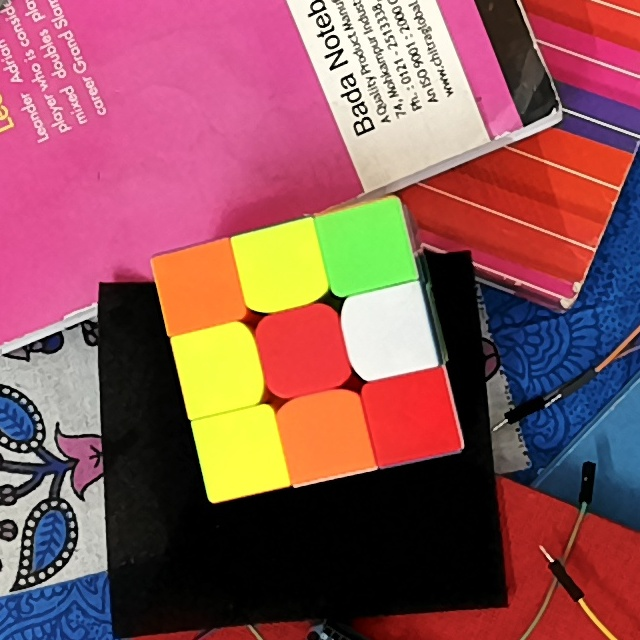tile: (378, 383, 447, 450), (335, 215, 405, 280), (356, 300, 424, 366), (290, 404, 359, 468), (209, 419, 275, 485), (268, 319, 335, 382), (188, 337, 251, 401), (248, 234, 314, 294), (168, 255, 230, 317)
